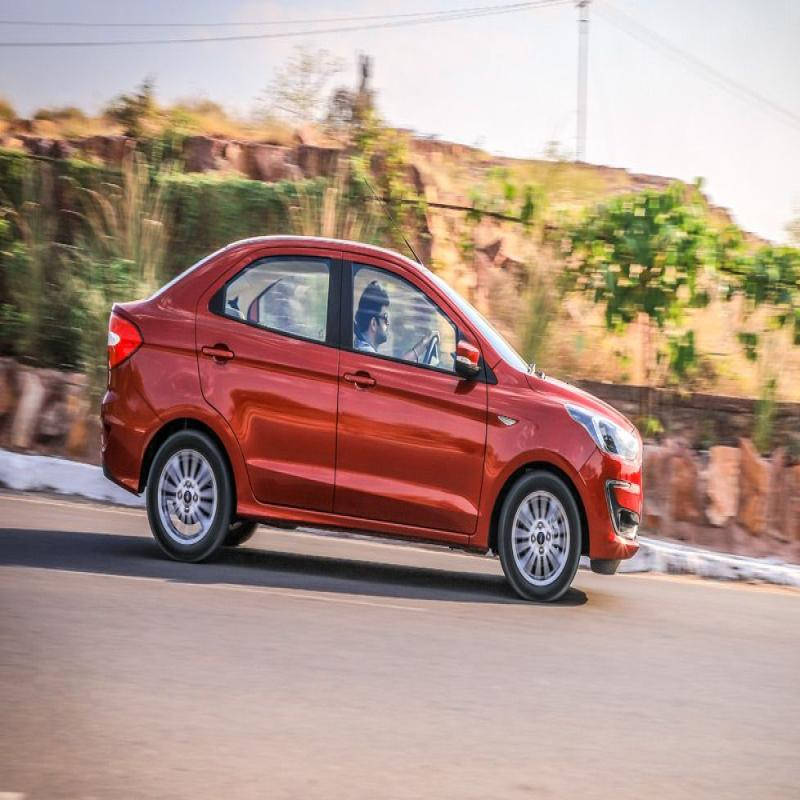car: (84, 203, 656, 625)
